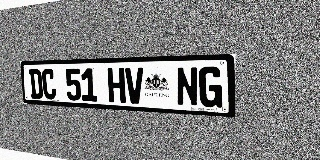1: (80, 68, 97, 102)
5: (65, 68, 82, 101)
C: (41, 69, 57, 100)
D: (29, 69, 43, 99)
G: (199, 66, 222, 108)
H: (107, 68, 126, 103)
N: (176, 67, 198, 107)
V: (125, 68, 144, 104)
